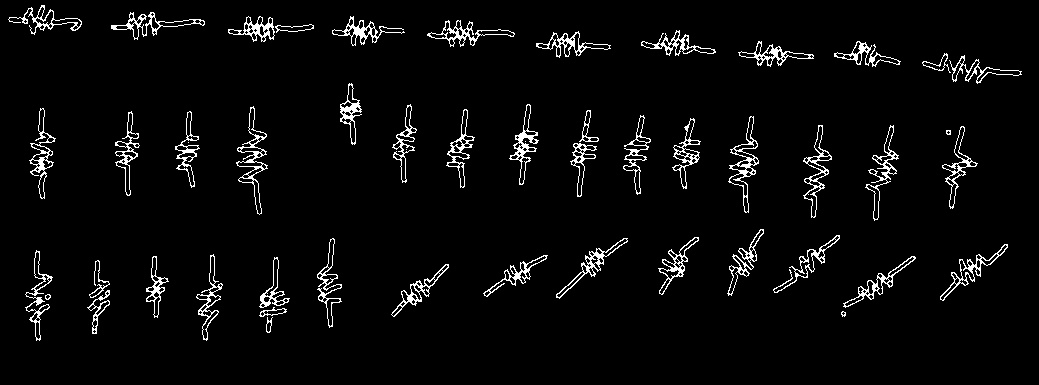resistor: (233, 117, 271, 202), (930, 50, 1004, 91), (936, 137, 982, 201), (22, 257, 56, 343), (725, 130, 761, 206), (862, 139, 901, 209), (799, 136, 834, 211), (26, 123, 62, 192), (334, 13, 395, 51), (388, 112, 422, 179), (442, 120, 480, 179), (565, 125, 604, 181), (786, 242, 835, 286), (433, 17, 495, 51), (117, 8, 177, 43), (195, 272, 227, 337), (618, 125, 653, 184), (949, 251, 997, 294), (83, 271, 117, 331), (255, 273, 294, 325), (313, 256, 346, 317), (852, 265, 901, 306), (507, 118, 540, 178), (647, 28, 704, 62), (113, 122, 144, 184), (539, 28, 599, 60), (655, 243, 697, 288), (668, 133, 704, 184), (743, 37, 798, 70), (397, 270, 440, 312), (17, 5, 72, 37), (725, 239, 761, 286), (235, 13, 289, 44), (841, 37, 889, 71), (173, 125, 202, 180), (574, 246, 615, 280), (335, 91, 363, 138), (495, 259, 541, 287), (144, 266, 171, 313)
